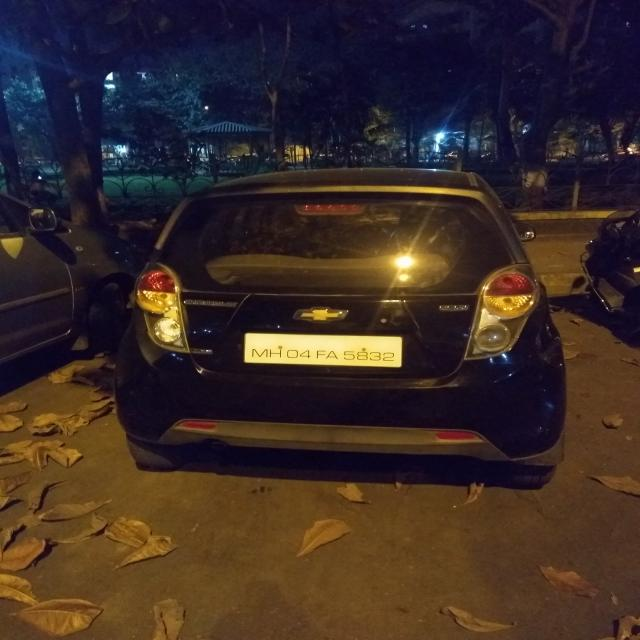Number-Plate: (248, 332, 402, 368)
